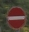No entry: (6, 5, 24, 27)
